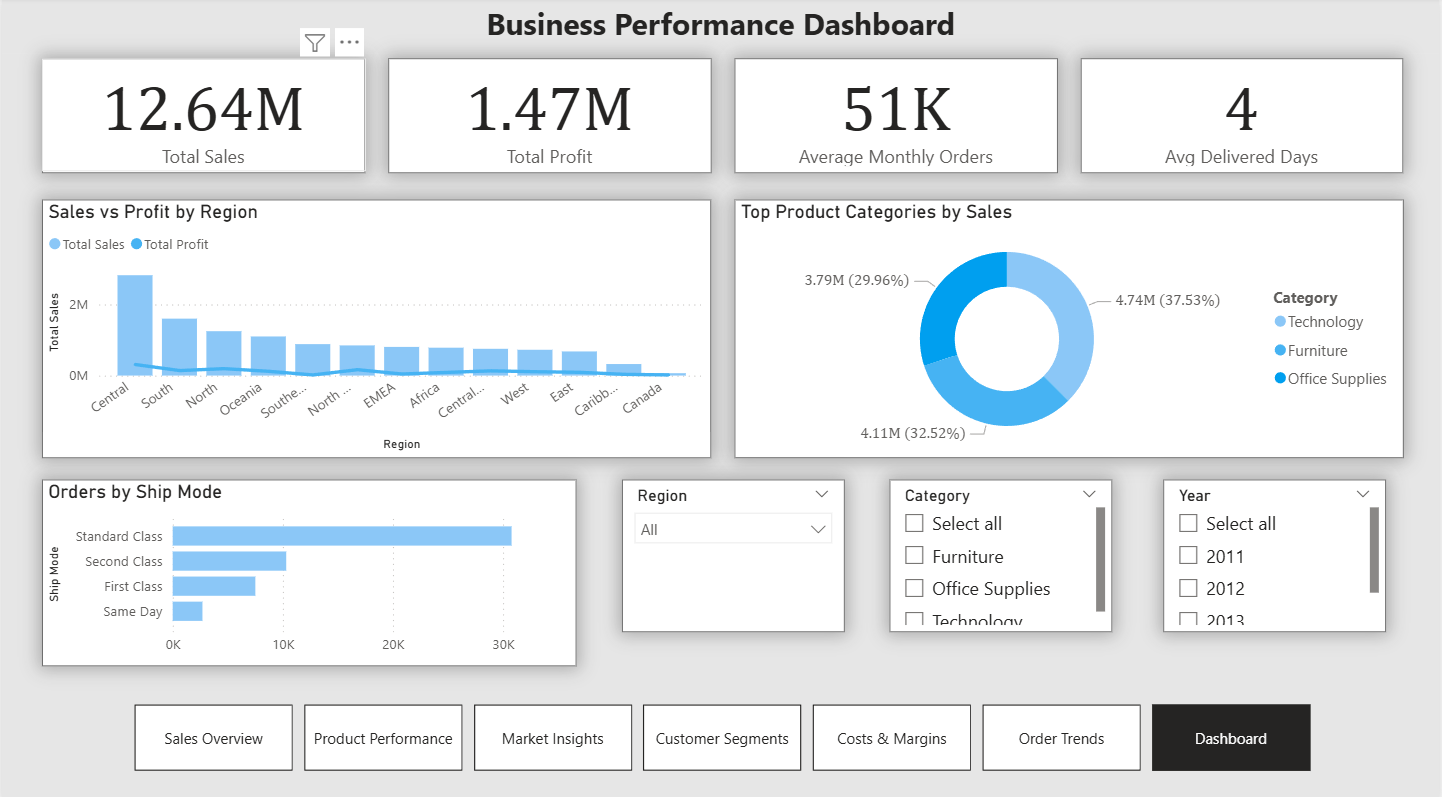

What the dashboard file says about the page in this screenshot:
{"tool":"powerbi","page":{"name":"Dashboard","canvas":[1280,720],"ordinal":6},"visuals":[{"type":"textbox","box":[0,0,1280,50],"z":0},{"type":"card","fields":{"Values":["Sum(Global_Superstore.Profit)"]},"box":[344,54,288,102],"z":1000},{"type":"card","fields":{"Values":["Global_Superstore.Total Orders"]},"box":[652,54,288,102],"z":2000},{"type":"card","fields":{"Values":["Global_Superstore.Avg Shipping Days"]},"box":[960.3,54.3,287.1,102.5],"z":3000},{"type":"card","fields":{"Values":["Global_Superstore.Total Sales"]},"box":[36,54,288,102],"z":4000},{"type":"lineClusteredColumnComboChart","title":"Sales vs Profit by Region","fields":{"Y2":["Sum(Global_Superstore.Profit)"],"Y":["Sum(Global_Superstore.Sales)"],"Category":["Global_Superstore.Region"]},"box":[36,180,596,230],"z":5000},{"type":"donutChart","title":"Top Product Categories by Sales","fields":{"Category":["Global_Superstore.Category"],"Y":["Sum(Global_Superstore.Sales)"]},"box":[652,180,596,230],"z":6000},{"type":"clusteredBarChart","fields":{"Category":["Global_Superstore.Ship Mode"],"Y":["CountNonNull(Global_Superstore.Order ID)"]},"box":[36,430,476,166],"z":7000},{"type":"slicer","fields":{"Values":["Global_Superstore.Region"]},"box":[552,430,198,136],"z":8000},{"type":"slicer","fields":{"Values":["Global_Superstore.Order Date.Variation.Date Hierarchy.Year"]},"box":[1034,430,198,136],"z":9000},{"type":"slicer","fields":{"Values":["Global_Superstore.Category"]},"box":[790,430,198,136],"z":10000},{"type":"pageNavigator","box":[118.3,630.3,1047.7,59.8],"z":11000}]}

Visuals, with their boxes in screenshot pixels (x1, y1, x2, y2), scaled from the page's 1280x720 canvas onto the 1442x797 screenshot:
textbox: (0, 0, 1441, 55)
card - Sum(Global_Superstore.Profit): (388, 60, 712, 173)
card - Global_Superstore.Total Orders: (735, 60, 1059, 173)
card - Global_Superstore.Avg Shipping Days: (1082, 60, 1405, 174)
card - Global_Superstore.Total Sales: (41, 60, 365, 173)
"Sales vs Profit by Region" lineClusteredColumnComboChart: (41, 199, 712, 454)
"Top Product Categories by Sales" donutChart: (735, 199, 1406, 454)
clusteredBarChart - Global_Superstore.Ship Mode x CountNonNull(Global_Superstore.Order ID): (41, 476, 577, 660)
slicer - Global_Superstore.Region: (622, 476, 845, 627)
slicer - Global_Superstore.Order Date.Variation.Date Hierarchy.Year: (1165, 476, 1388, 627)
slicer - Global_Superstore.Category: (890, 476, 1113, 627)
pageNavigator: (133, 698, 1314, 764)
